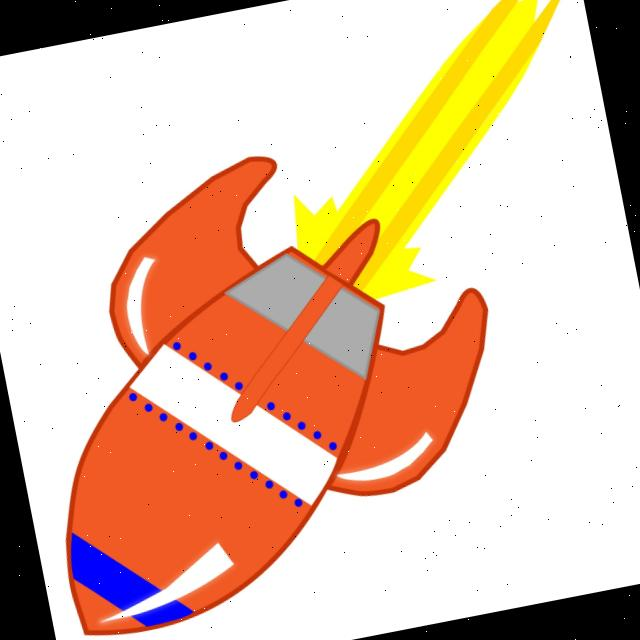rocket: (52, 140, 497, 640)
